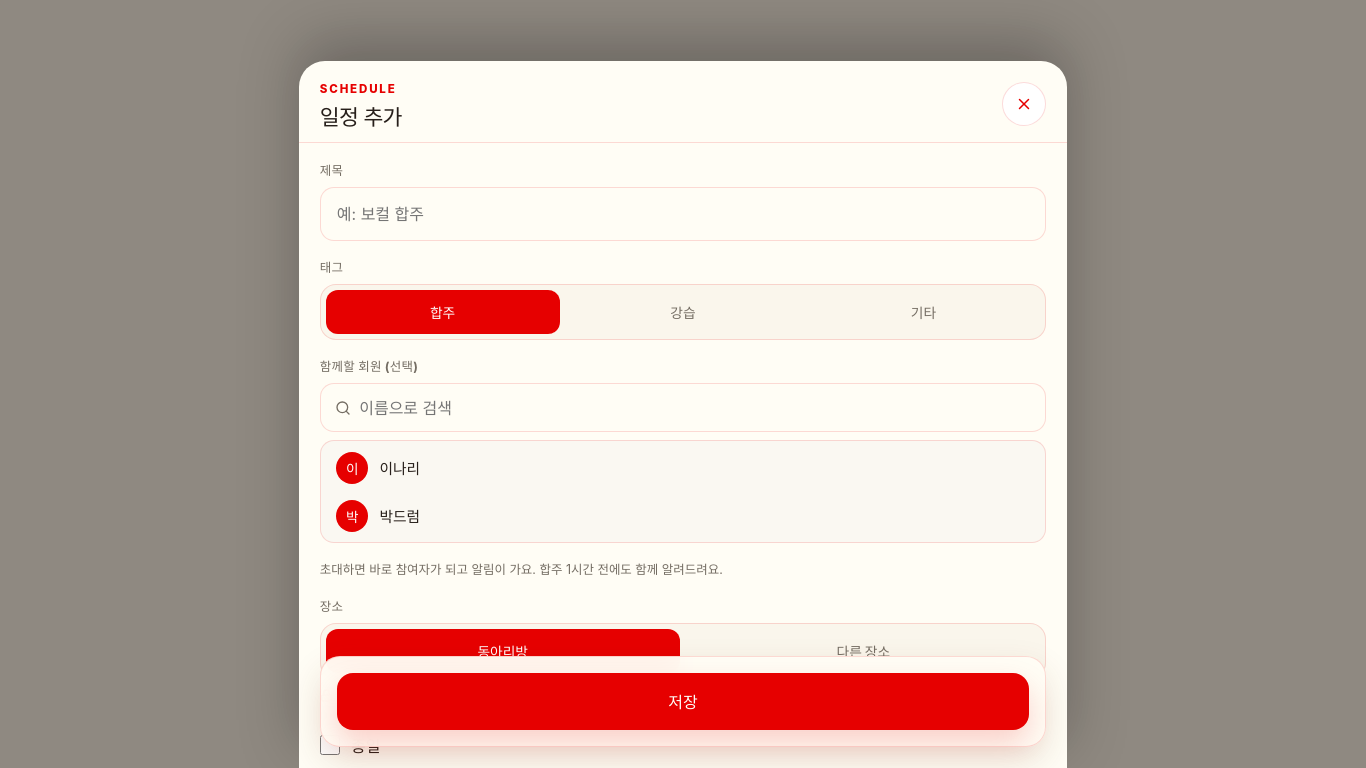
Test: EntrySheet 추가 › 슬롯 충돌이면 시트를 유지하고 목록 새로고침을 요청한다
Type "합주" into the field labelled "제목" at (683, 214), box [320,187,1046,241]
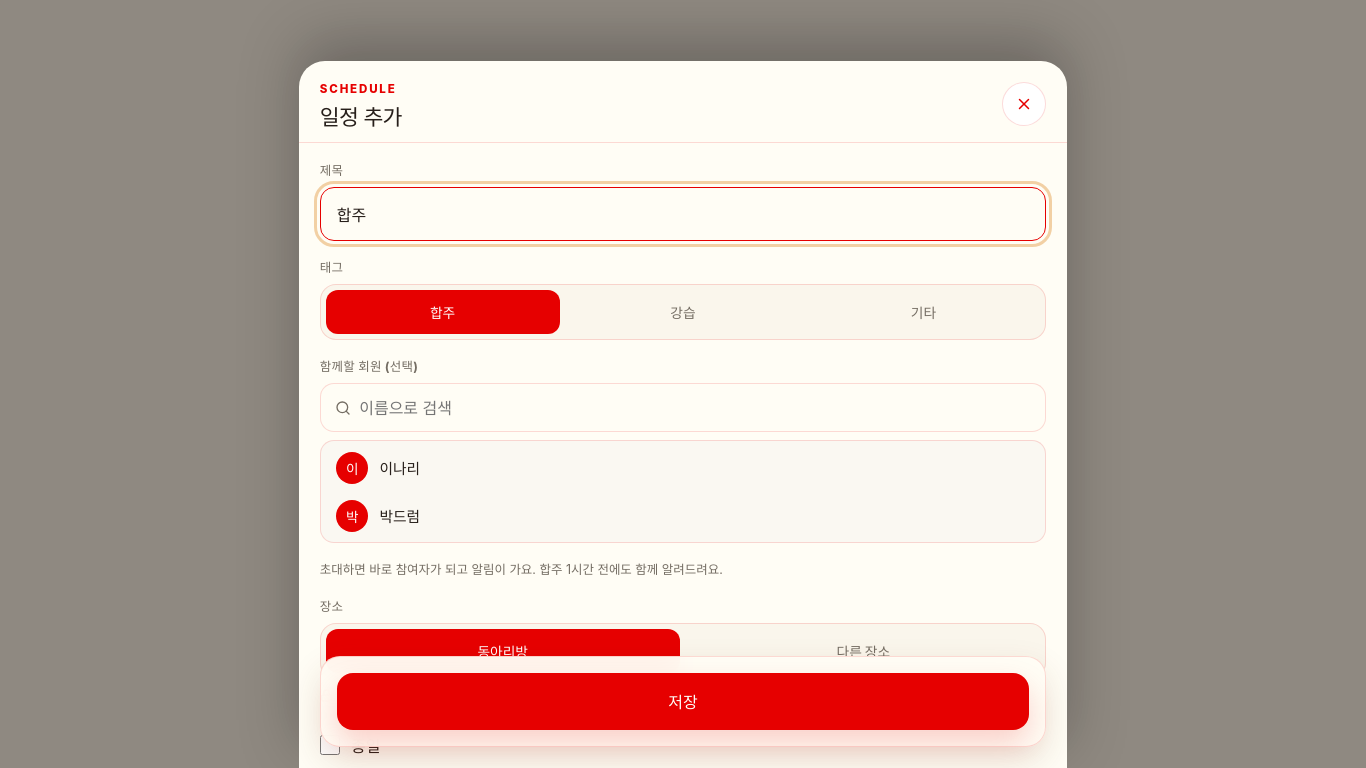
Click the button "저장" at (683, 702), box [337,673,1029,730]
(page scrolled)
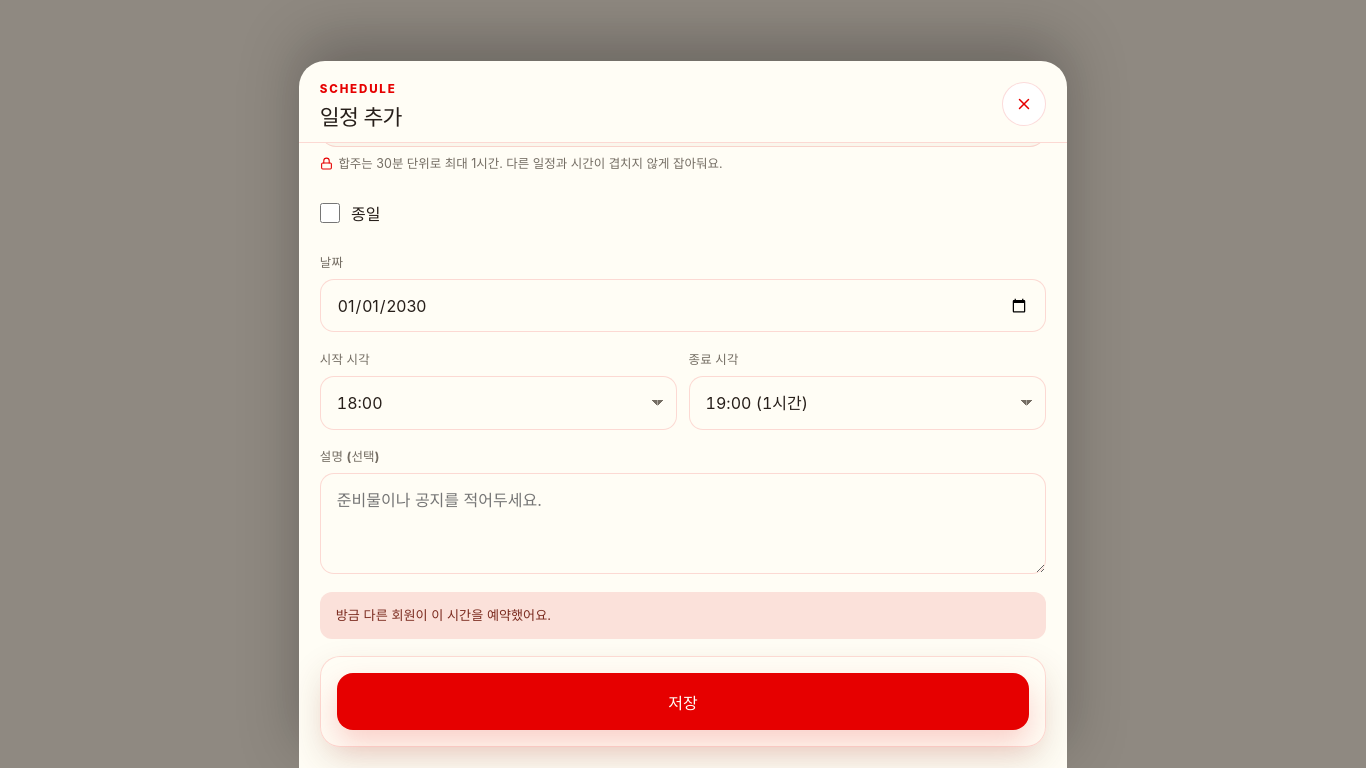
Result: the message reads "방금 다른 회원이 이 시간을 예약했어요." at [336,606,551,622]
